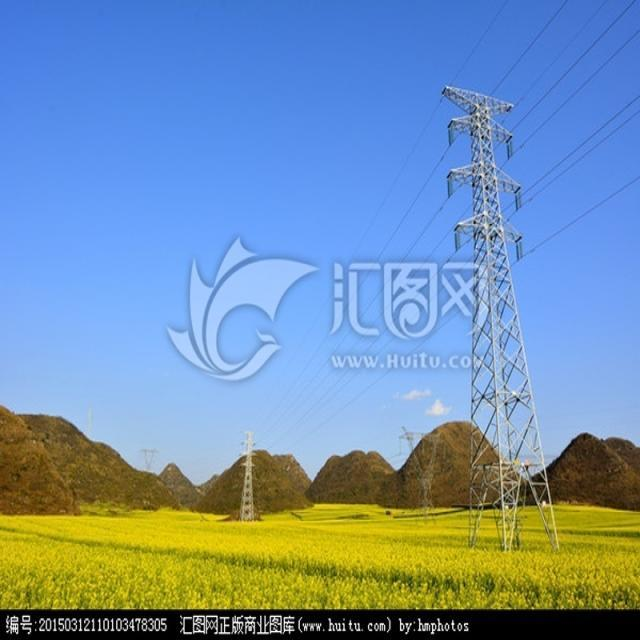non-critical vegetation: (426, 87, 564, 559), (230, 426, 258, 520)
